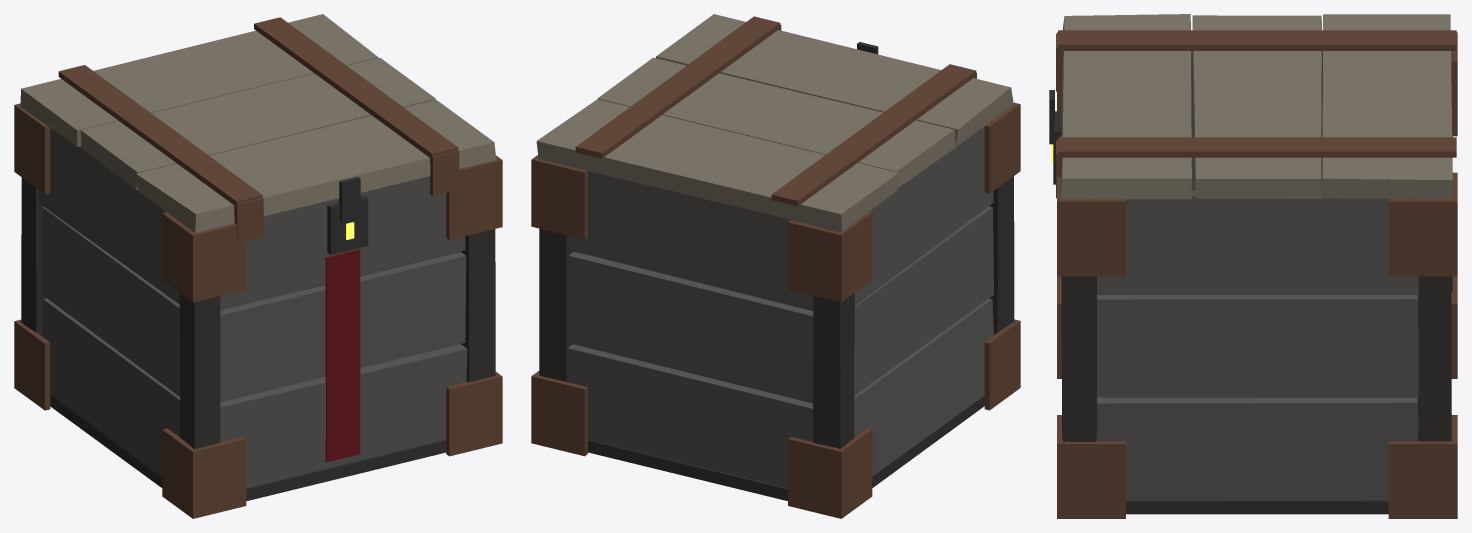
Rendered from crate.glb.
3 views of the same model, side by side, from view 1: azimuth 30°, elevation 25°; view 2: azimuth 150°, elevation 25°; view 3: azimuth 270°, elevation 25° (orthographic). The views are drawn at different scales.
Parts seen in each view (by area): view 1: planks_front, lid, planks_left, lid_straps, corner_posts, paint_band_front, bracket_fl_low, bracket_fl_high, base, bracket_fr_low, bracket_fr_high, bracket_bl_low (+3 smaller); view 2: planks_back, lid, planks_left, corner_posts, lid_straps, bracket_bl_low, bracket_bl_high, base, bracket_br_low, bracket_br_high, bracket_fl_low, bracket_fl_high; view 3: planks_right, lid, lid_straps, corner_posts, bracket_br_low, bracket_br_high, bracket_fr_low, bracket_fr_high, base, bracket_bl_low, bracket_bl_high, bracket_fl_low (+1 smaller).
Part boxes in pixels (x1,y1,x2,y2): planks_front: (220,176,467,488); lid: (20,14,496,232); planks_left: (39,128,180,477); lid_straps: (58,17,459,243); corner_posts: (21,177,495,449); paint_band_front: (325,249,360,462); bracket_fl_low: (162,428,246,518); bracket_fl_high: (162,212,246,302); base: (50,395,446,501); bracket_fr_low: (446,372,502,456); bracket_fr_high: (446,155,502,239); bracket_bl_low: (14,319,50,410); planks_back: (567,171,814,487); lid: (536,14,1013,231); planks_left: (854,126,993,476); corner_posts: (539,176,1014,448); lid_straps: (575,16,976,206); bracket_bl_low: (788,428,872,518); bracket_bl_high: (788,212,872,302); base: (588,396,984,500); bracket_br_low: (531,371,587,456); bracket_br_high: (531,155,587,239); bracket_fl_low: (984,319,1020,410); bracket_fl_high: (984,102,1020,193); planks_right: (1096,190,1418,500); lid: (1061,14,1452,199); lid_straps: (1056,30,1456,198); corner_posts: (1061,136,1452,441); bracket_br_low: (1388,415,1457,518); bracket_br_high: (1388,172,1457,276); bracket_fr_low: (1057,415,1125,518); bracket_fr_high: (1057,177,1125,276); base: (1126,500,1388,514); bracket_bl_low: (1451,276,1457,378); bracket_bl_high: (1451,32,1457,136); bracket_fl_low: (1057,276,1061,378).
Size of what is drawn, in the model's own units: 0.824 by 0.779 by 0.84.
